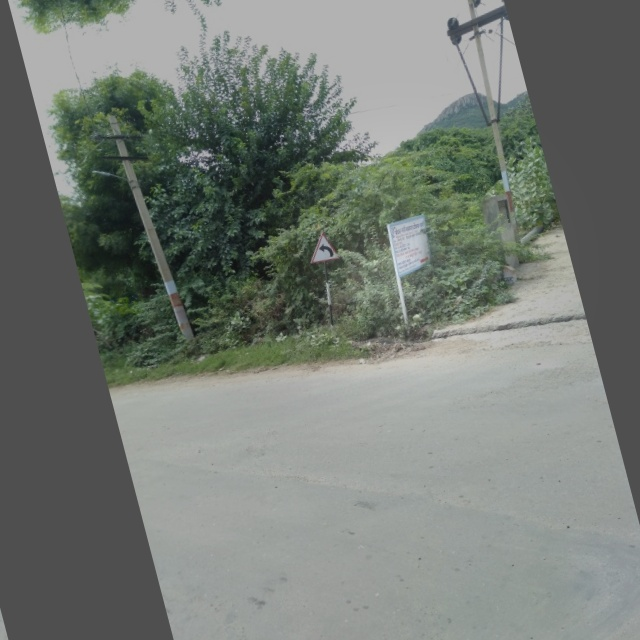Left_Hand_Curve: (303, 224, 345, 268)
